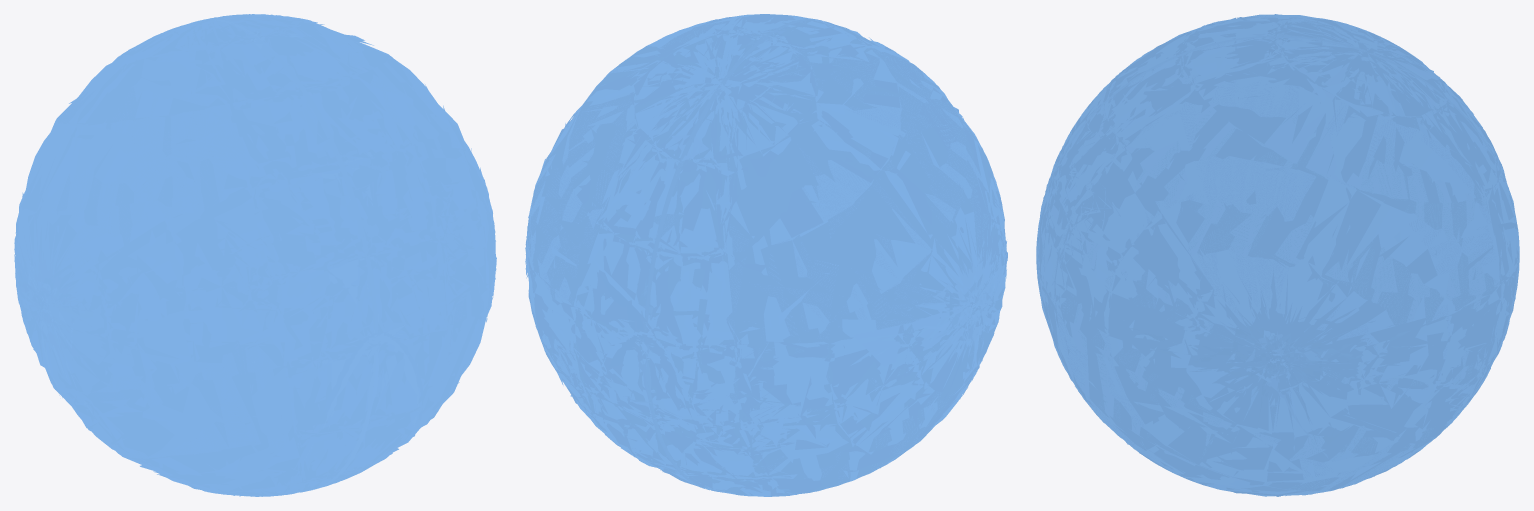
Rendered from tank-F0-2.glb.
The picture shows the model from 3 angles, left to right: view 1: azimuth 30°, elevation 25°; view 2: azimuth 150°, elevation 25°; view 3: azimuth 270°, elevation 25°; orthographic projection.
Visible parts, largest first — view 1: buoyancy_tanks; view 2: buoyancy_tanks; view 3: buoyancy_tanks.
Part boxes in pixels (box(x1,y1,x2,y2)): buoyancy_tanks: box(14, 14, 496, 496); buoyancy_tanks: box(525, 14, 1007, 496); buoyancy_tanks: box(1036, 14, 1519, 496).
Size of the model in its own units: 2 by 2 by 2.
